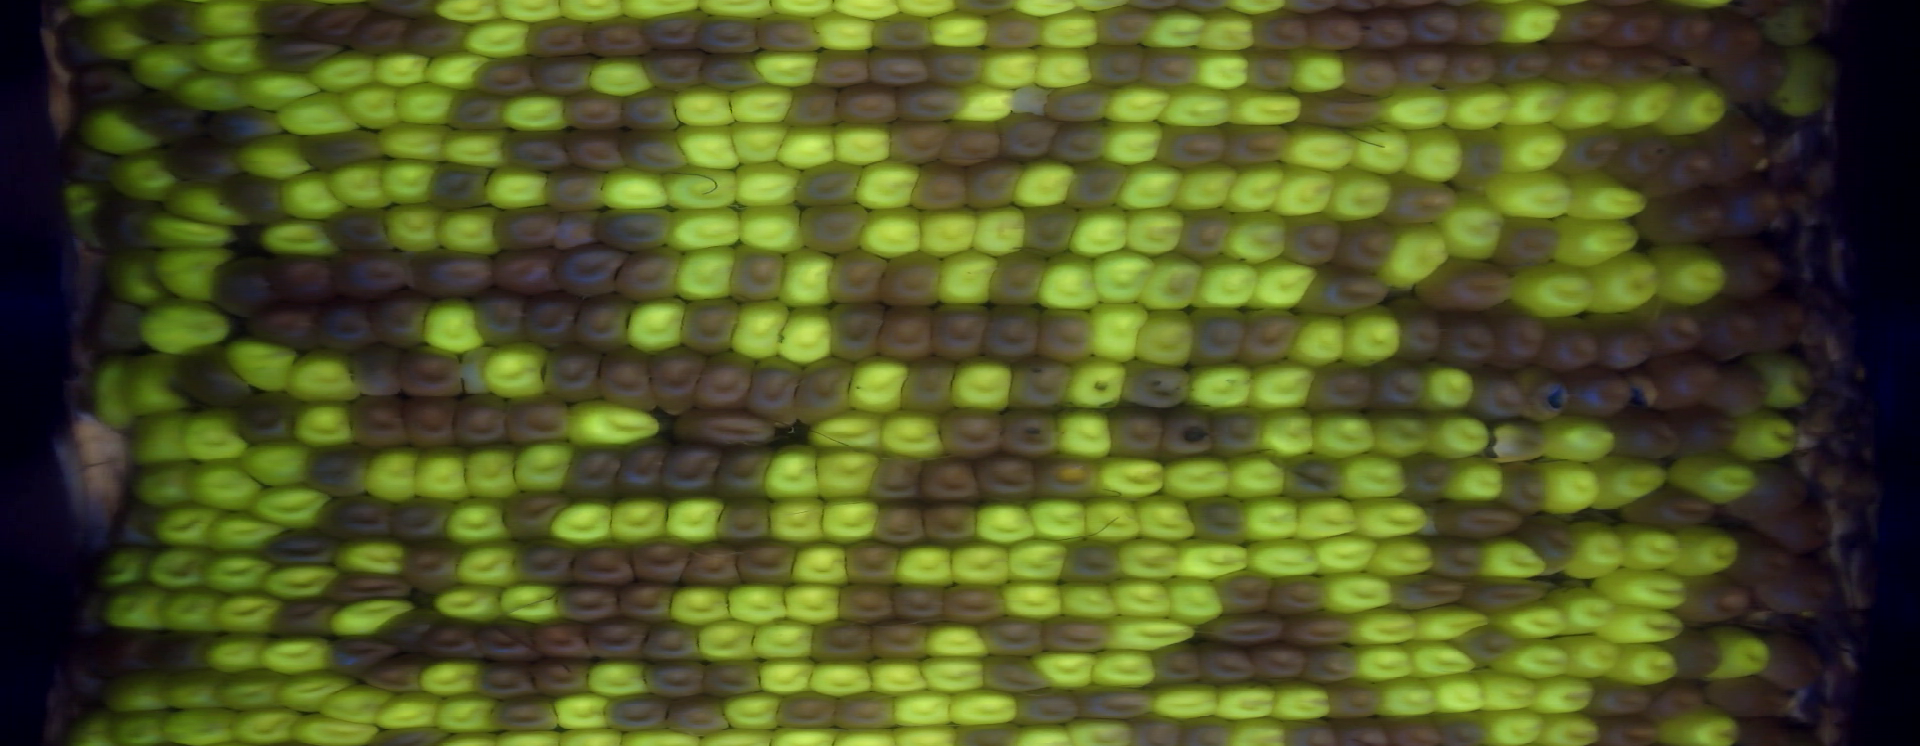fluorescent: (132, 292, 238, 360), (149, 241, 247, 309), (1644, 240, 1735, 312), (1511, 258, 1604, 323), (553, 398, 670, 450), (241, 477, 340, 537), (1488, 164, 1587, 224), (1548, 211, 1643, 272), (1558, 164, 1653, 225), (180, 452, 268, 517), (1439, 187, 1512, 265), (1648, 72, 1731, 140), (1664, 451, 1766, 506), (945, 347, 1022, 419), (1375, 219, 1452, 292), (1491, 118, 1578, 181), (1771, 40, 1836, 125), (1589, 247, 1667, 318), (70, 103, 167, 159), (115, 349, 196, 416), (223, 337, 310, 399), (1239, 254, 1322, 318), (479, 334, 555, 405), (81, 352, 149, 430), (157, 173, 250, 230), (119, 404, 202, 468), (1725, 405, 1809, 469), (96, 244, 175, 310), (1396, 120, 1473, 187), (1700, 619, 1778, 685), (1660, 523, 1747, 582), (227, 130, 318, 185), (82, 1, 157, 69), (1180, 358, 1262, 419), (1136, 245, 1212, 311), (454, 439, 531, 503), (280, 347, 367, 404), (1106, 609, 1202, 660), (807, 442, 887, 505), (1090, 244, 1163, 311), (839, 350, 915, 415), (135, 539, 217, 599), (278, 660, 365, 717), (1216, 207, 1296, 268), (1559, 517, 1630, 586), (1193, 249, 1264, 317), (122, 38, 207, 96), (268, 88, 365, 138), (1282, 118, 1364, 176), (1153, 570, 1231, 632), (1434, 77, 1521, 132), (359, 441, 429, 510), (1032, 249, 1103, 316), (1322, 160, 1400, 222), (104, 148, 182, 208), (771, 303, 841, 370), (621, 294, 693, 359), (932, 245, 1007, 307), (1491, 73, 1576, 129), (55, 176, 116, 252), (1531, 456, 1607, 517), (869, 408, 951, 464), (419, 293, 490, 358), (404, 439, 475, 503), (140, 208, 250, 250), (236, 437, 320, 492), (938, 535, 1021, 590), (1605, 639, 1689, 695), (326, 533, 413, 586), (1267, 160, 1342, 222), (197, 508, 295, 555), (1305, 405, 1382, 464), (757, 439, 828, 502), (1130, 485, 1201, 549), (1589, 567, 1695, 610), (671, 118, 749, 175), (1222, 81, 1311, 131), (1609, 519, 1689, 576), (670, 243, 744, 303), (149, 583, 230, 638), (880, 540, 965, 593), (255, 560, 348, 608), (1341, 300, 1404, 370), (1058, 354, 1135, 412), (99, 576, 176, 633), (324, 597, 422, 642), (1314, 567, 1400, 619), (1746, 352, 1820, 412), (856, 202, 931, 261), (313, 679, 405, 726), (1536, 416, 1625, 465), (231, 69, 331, 113), (775, 244, 841, 310), (512, 434, 579, 499), (1424, 407, 1500, 464), (724, 295, 786, 365), (1594, 456, 1675, 510), (1757, 1, 1842, 53), (253, 632, 347, 679), (1052, 405, 1125, 464), (285, 393, 364, 448), (909, 649, 994, 699), (178, 405, 252, 463), (605, 489, 680, 546), (1158, 78, 1238, 132), (318, 158, 398, 212), (211, 665, 294, 717), (444, 492, 520, 549), (1340, 448, 1416, 505), (1416, 355, 1485, 416), (1248, 355, 1318, 416), (1284, 311, 1354, 372), (658, 164, 744, 213), (665, 202, 746, 255), (1093, 454, 1174, 507), (733, 202, 811, 257), (1075, 489, 1147, 548), (1491, 635, 1576, 685), (966, 495, 1044, 549), (1155, 454, 1237, 506), (1346, 491, 1436, 538), (1409, 601, 1498, 649), (1131, 306, 1200, 367), (1238, 533, 1325, 581), (733, 156, 807, 212), (1365, 405, 1439, 462), (748, 614, 827, 666), (375, 119, 457, 169), (1114, 159, 1189, 214), (850, 156, 924, 211), (1011, 154, 1081, 213), (1600, 601, 1693, 646), (861, 650, 940, 702), (691, 615, 767, 669), (339, 77, 410, 135), (433, 203, 504, 261), (1220, 158, 1291, 216), (1491, 599, 1575, 648), (193, 29, 274, 80), (197, 546, 278, 597), (184, 1, 276, 45), (126, 454, 200, 510), (1256, 402, 1325, 461), (997, 575, 1071, 628), (1471, 534, 1553, 583), (666, 578, 738, 633), (1090, 299, 1151, 364), (1168, 159, 1242, 213), (595, 164, 676, 213), (156, 665, 236, 714), (1025, 646, 1103, 696), (1308, 529, 1386, 579), (803, 407, 888, 453), (1398, 637, 1483, 684), (1344, 121, 1416, 176), (545, 495, 621, 546), (724, 115, 796, 169), (1116, 533, 1189, 586), (151, 503, 231, 551), (1608, 83, 1682, 135), (943, 684, 1027, 729), (1104, 572, 1180, 622), (771, 120, 844, 173), (276, 168, 348, 220), (1548, 584, 1620, 637), (302, 48, 382, 96), (498, 91, 578, 138), (1120, 205, 1189, 260), (497, 575, 571, 626), (1663, 703, 1751, 746), (825, 116, 895, 170), (1555, 76, 1625, 130), (427, 691, 506, 739), (371, 686, 449, 734), (814, 492, 885, 545), (1286, 39, 1351, 97), (1026, 491, 1092, 548), (97, 668, 173, 717), (393, 78, 465, 130), (1096, 118, 1168, 169), (913, 207, 986, 258), (449, 539, 522, 590), (229, 699, 309, 746), (1375, 83, 1455, 130), (257, 218, 345, 260), (1136, 4, 1211, 53), (1369, 673, 1444, 722), (1067, 205, 1131, 261), (380, 198, 444, 255), (762, 495, 833, 546), (1005, 530, 1076, 582), (282, 710, 384, 746), (1223, 447, 1294, 499), (209, 589, 288, 636), (1054, 575, 1127, 625), (582, 53, 658, 100), (921, 617, 997, 665), (1149, 679, 1228, 724), (753, 653, 827, 702), (775, 581, 850, 628), (200, 631, 274, 679), (433, 578, 504, 628), (1474, 668, 1545, 718), (1103, 78, 1176, 127), (482, 162, 555, 211), (1553, 633, 1625, 682), (459, 12, 535, 59), (175, 69, 251, 115), (1191, 40, 1251, 99), (1178, 535, 1258, 579), (1193, 2, 1258, 56), (418, 49, 495, 94), (724, 81, 801, 126), (436, 122, 513, 168), (669, 81, 740, 130), (1444, 454, 1515, 503), (748, 45, 827, 89), (724, 578, 792, 628), (1210, 677, 1286, 723), (1348, 601, 1424, 647), (1086, 646, 1160, 692), (662, 492, 727, 545), (373, 153, 440, 205), (542, 688, 620, 733), (1526, 673, 1603, 717), (1289, 496, 1367, 540), (887, 684, 958, 731), (1484, 415, 1551, 465), (1362, 535, 1438, 579), (969, 206, 1033, 257), (1239, 491, 1305, 541), (160, 703, 238, 746), (1269, 677, 1336, 726), (1498, 1, 1559, 55), (804, 657, 879, 701), (791, 539, 855, 590), (1420, 671, 1491, 717), (1029, 42, 1096, 89), (93, 544, 160, 592), (419, 657, 493, 699), (955, 81, 1024, 126), (587, 658, 655, 703), (722, 688, 791, 734), (976, 43, 1040, 89), (1477, 704, 1548, 746), (1033, 9, 1102, 51), (1346, 644, 1416, 686), (369, 47, 436, 89), (1528, 709, 1607, 746), (926, 9, 994, 49), (1059, 710, 1136, 746), (102, 708, 171, 746), (62, 703, 119, 746), (615, 1, 705, 24), (430, 1, 503, 28), (1226, 713, 1284, 746), (693, 1, 782, 22), (551, 1, 627, 26), (493, 1, 567, 26), (830, 1, 905, 24), (1011, 720, 1078, 746), (890, 1, 964, 22), (763, 1, 842, 20)
nonfluorescent: (1406, 256, 1523, 317), (1680, 2, 1773, 73), (1631, 186, 1735, 247), (1633, 349, 1727, 415), (1635, 132, 1725, 200), (1712, 165, 1789, 244), (169, 341, 256, 409), (1758, 554, 1848, 619), (1299, 262, 1400, 320), (785, 353, 858, 430), (1709, 39, 1795, 105), (1725, 457, 1813, 521), (1376, 167, 1469, 227), (361, 281, 437, 354), (1700, 103, 1769, 183), (640, 339, 709, 420), (666, 404, 787, 450), (591, 339, 662, 416), (1695, 296, 1772, 367), (1753, 626, 1833, 695), (1611, 483, 1723, 530), (1700, 670, 1801, 722), (207, 252, 280, 323), (982, 240, 1056, 311), (550, 236, 627, 304), (327, 247, 415, 306), (1551, 115, 1630, 181), (653, 434, 732, 499), (1670, 570, 1756, 630), (407, 246, 500, 301), (564, 288, 638, 358), (1716, 230, 1785, 304), (122, 86, 209, 145), (1583, 306, 1660, 372), (560, 434, 633, 502), (1720, 526, 1802, 587), (609, 241, 684, 307), (300, 439, 378, 502), (688, 345, 760, 414), (310, 491, 402, 545), (825, 293, 891, 367), (1236, 304, 1310, 370), (1385, 293, 1451, 367), (1424, 496, 1533, 541), (156, 132, 245, 187), (1489, 214, 1569, 276), (1275, 201, 1346, 269), (1604, 126, 1679, 191), (742, 354, 804, 431), (1292, 87, 1395, 134), (1005, 353, 1081, 415), (1633, 298, 1711, 359), (708, 439, 776, 507), (959, 151, 1029, 218), (872, 299, 942, 366), (1331, 209, 1401, 277), (87, 190, 167, 249), (316, 203, 400, 258), (391, 339, 468, 399), (676, 293, 744, 360), (1512, 511, 1580, 579), (895, 353, 965, 419), (233, 385, 302, 451), (1031, 446, 1109, 505), (241, 299, 324, 354), (500, 387, 574, 448), (878, 247, 947, 314), (924, 299, 989, 369), (83, 296, 154, 360), (612, 431, 676, 502), (1704, 356, 1776, 420), (820, 246, 893, 309), (934, 401, 1007, 463), (343, 392, 415, 454), (201, 100, 298, 147), (295, 126, 387, 175), (1302, 359, 1381, 415), (468, 282, 534, 349), (1536, 311, 1605, 375), (1120, 356, 1198, 414), (1149, 122, 1231, 176), (595, 202, 673, 258), (267, 249, 340, 309), (1446, 124, 1506, 197), (1750, 502, 1836, 554), (1184, 303, 1250, 369), (446, 390, 513, 454), (1485, 307, 1553, 372), (1665, 401, 1738, 461), (216, 168, 290, 225), (796, 201, 871, 258), (977, 299, 1042, 365), (544, 339, 609, 405), (396, 390, 462, 454), (1509, 358, 1575, 423), (1103, 402, 1172, 464), (1434, 307, 1502, 370), (1464, 363, 1536, 423), (1742, 292, 1813, 352), (1461, 570, 1548, 619), (1611, 408, 1685, 465), (256, 29, 347, 76), (722, 239, 785, 306), (972, 448, 1043, 507), (492, 244, 564, 301), (397, 9, 478, 60), (500, 488, 573, 544), (792, 156, 867, 211), (397, 535, 467, 594), (1385, 571, 1473, 617), (726, 534, 802, 588), (1562, 366, 1638, 420), (913, 451, 984, 508), (628, 533, 700, 589), (507, 533, 579, 589), (613, 124, 691, 176), (467, 614, 544, 666), (1018, 198, 1085, 258), (64, 61, 148, 109), (1195, 608, 1292, 649), (422, 160, 498, 213), (318, 570, 420, 609), (1033, 303, 1096, 366), (518, 288, 580, 352), (1660, 625, 1725, 686), (1065, 156, 1131, 216), (1365, 352, 1431, 412), (996, 405, 1064, 463), (384, 492, 456, 548), (673, 537, 744, 592), (566, 539, 642, 590), (973, 609, 1049, 660), (345, 339, 410, 399), (1156, 405, 1221, 465), (905, 156, 971, 214), (485, 692, 569, 737), (369, 603, 440, 657), (1489, 36, 1560, 89), (55, 121, 115, 185), (1205, 401, 1270, 459), (583, 615, 659, 665), (1275, 451, 1347, 503), (496, 125, 576, 173), (267, 592, 347, 639), (803, 617, 883, 665), (994, 110, 1062, 167), (634, 5, 711, 54), (598, 687, 675, 736), (1032, 612, 1118, 657), (1209, 566, 1282, 617), (539, 163, 609, 217), (493, 200, 563, 254), (311, 299, 373, 359), (696, 48, 774, 96), (358, 650, 433, 699), (980, 649, 1056, 698), (860, 453, 928, 507), (1058, 534, 1127, 588), (636, 45, 709, 96), (1216, 119, 1293, 167), (1397, 448, 1461, 506), (936, 119, 1007, 170), (884, 116, 955, 168), (1580, 674, 1658, 720), (939, 578, 1011, 628), (579, 11, 655, 59), (866, 499, 934, 551), (418, 615, 486, 668), (1071, 684, 1163, 723), (520, 653, 598, 699), (258, 528, 344, 570), (1087, 2, 1162, 50), (806, 44, 880, 92), (556, 86, 631, 134), (661, 692, 736, 740), (891, 78, 972, 122), (1542, 1, 1622, 45), (1040, 118, 1112, 167), (830, 81, 906, 127), (527, 617, 602, 664), (1247, 6, 1315, 58), (1176, 205, 1233, 266), (1296, 639, 1365, 690), (1438, 40, 1502, 94), (841, 537, 907, 589), (778, 81, 849, 130), (1262, 570, 1333, 619), (1337, 49, 1404, 100), (1494, 457, 1551, 517), (525, 51, 598, 99), (864, 9, 940, 54), (1009, 684, 1085, 729), (756, 9, 825, 58), (864, 614, 934, 663), (1038, 80, 1116, 124), (1185, 491, 1251, 543), (470, 658, 541, 706), (329, 635, 404, 680), (1600, 43, 1675, 88), (638, 617, 705, 668), (560, 127, 628, 176), (298, 1, 373, 45), (135, 1, 204, 49), (345, 11, 415, 59), (524, 13, 594, 61), (698, 657, 771, 702), (830, 687, 904, 733), (922, 40, 988, 91), (977, 7, 1048, 54), (864, 44, 936, 91), (1545, 38, 1616, 85), (105, 499, 167, 552), (1194, 639, 1261, 688), (1391, 40, 1458, 89), (831, 578, 900, 626), (468, 54, 538, 100), (553, 582, 623, 628), (1641, 675, 1711, 722), (639, 654, 713, 698), (1316, 675, 1390, 719), (1660, 1, 1720, 55), (51, 15, 104, 76), (696, 13, 767, 59), (715, 492, 778, 544), (921, 500, 983, 551), (613, 578, 677, 628), (441, 87, 509, 134), (1400, 4, 1469, 49), (1281, 609, 1357, 650), (1420, 534, 1487, 582), (1138, 43, 1205, 89), (253, 1, 333, 40), (616, 85, 684, 130), (770, 688, 842, 731), (1356, 2, 1416, 54), (1605, 2, 1675, 47), (1305, 5, 1367, 55), (888, 579, 951, 627), (1249, 639, 1311, 686), (1452, 622, 1515, 669), (1243, 45, 1297, 99), (1146, 639, 1205, 688), (1089, 44, 1151, 89), (1728, 710, 1806, 746), (1451, 2, 1510, 49), (549, 206, 605, 254), (1592, 713, 1663, 746), (1176, 710, 1240, 746), (1431, 709, 1494, 746), (1379, 710, 1442, 746), (1329, 712, 1393, 746), (1124, 710, 1187, 746), (362, 724, 458, 746), (1280, 715, 1344, 746), (947, 720, 1015, 746), (34, 1, 81, 37)
